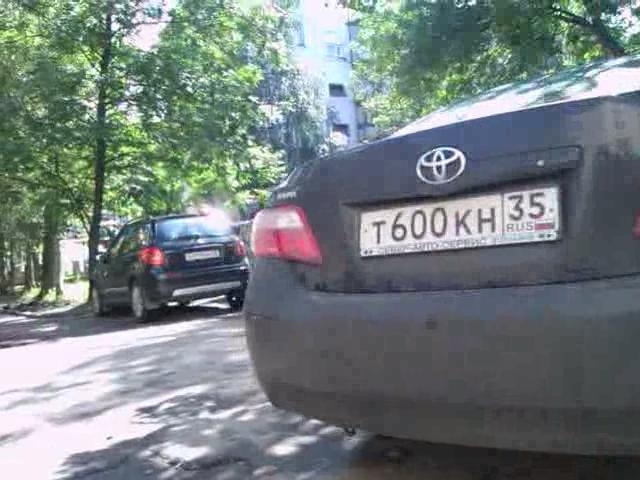car license plate: (357, 182, 562, 256), (184, 245, 221, 263)
